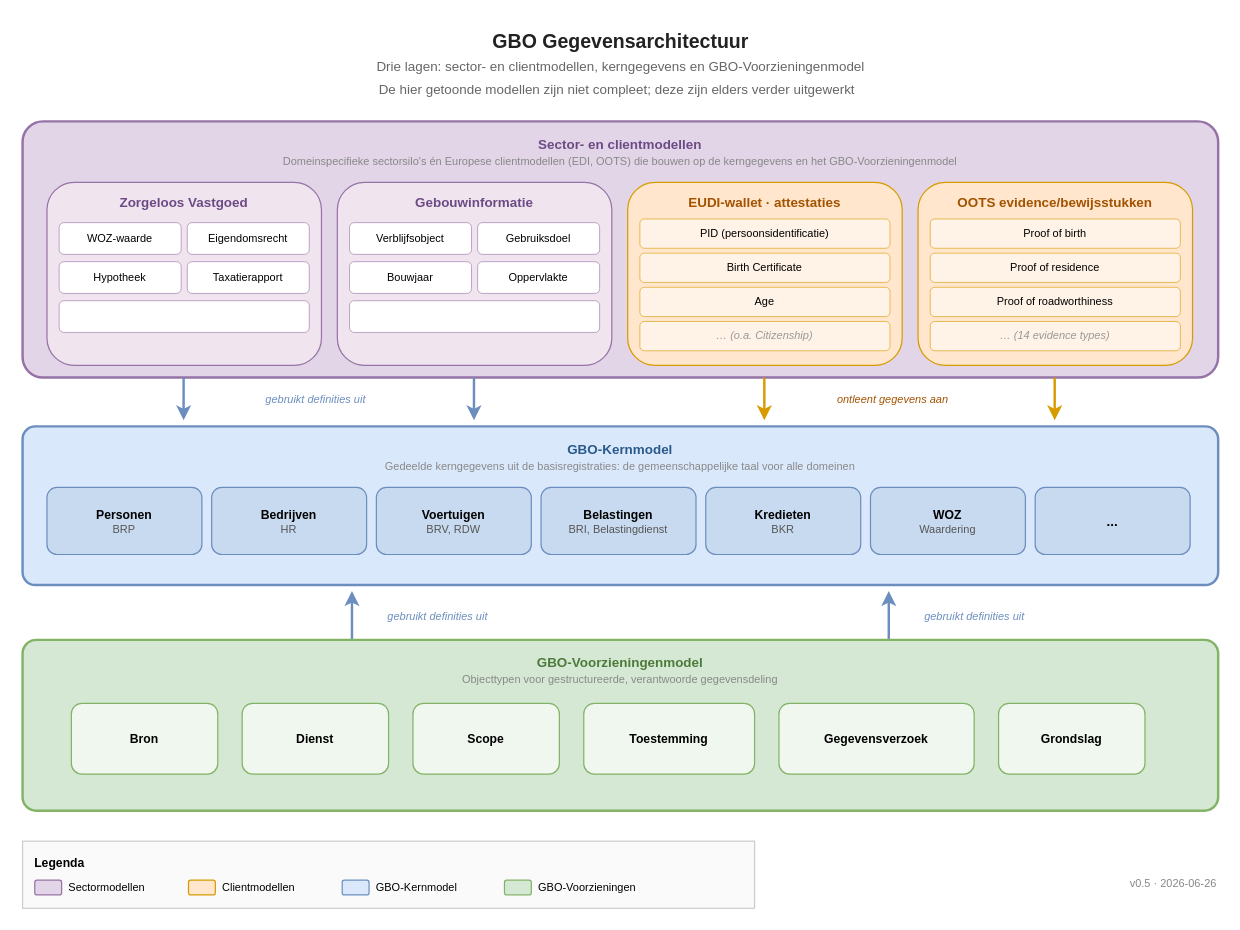
Some shapes in this 1240 by 930 pixel diagram are drawn without their labels. The shapes that lost their labels are listed below. From the top down, each one's centre as x and y in pixels, then its label:
(x=183, y=316): Inkomen
(x=474, y=316): Pandstatus
